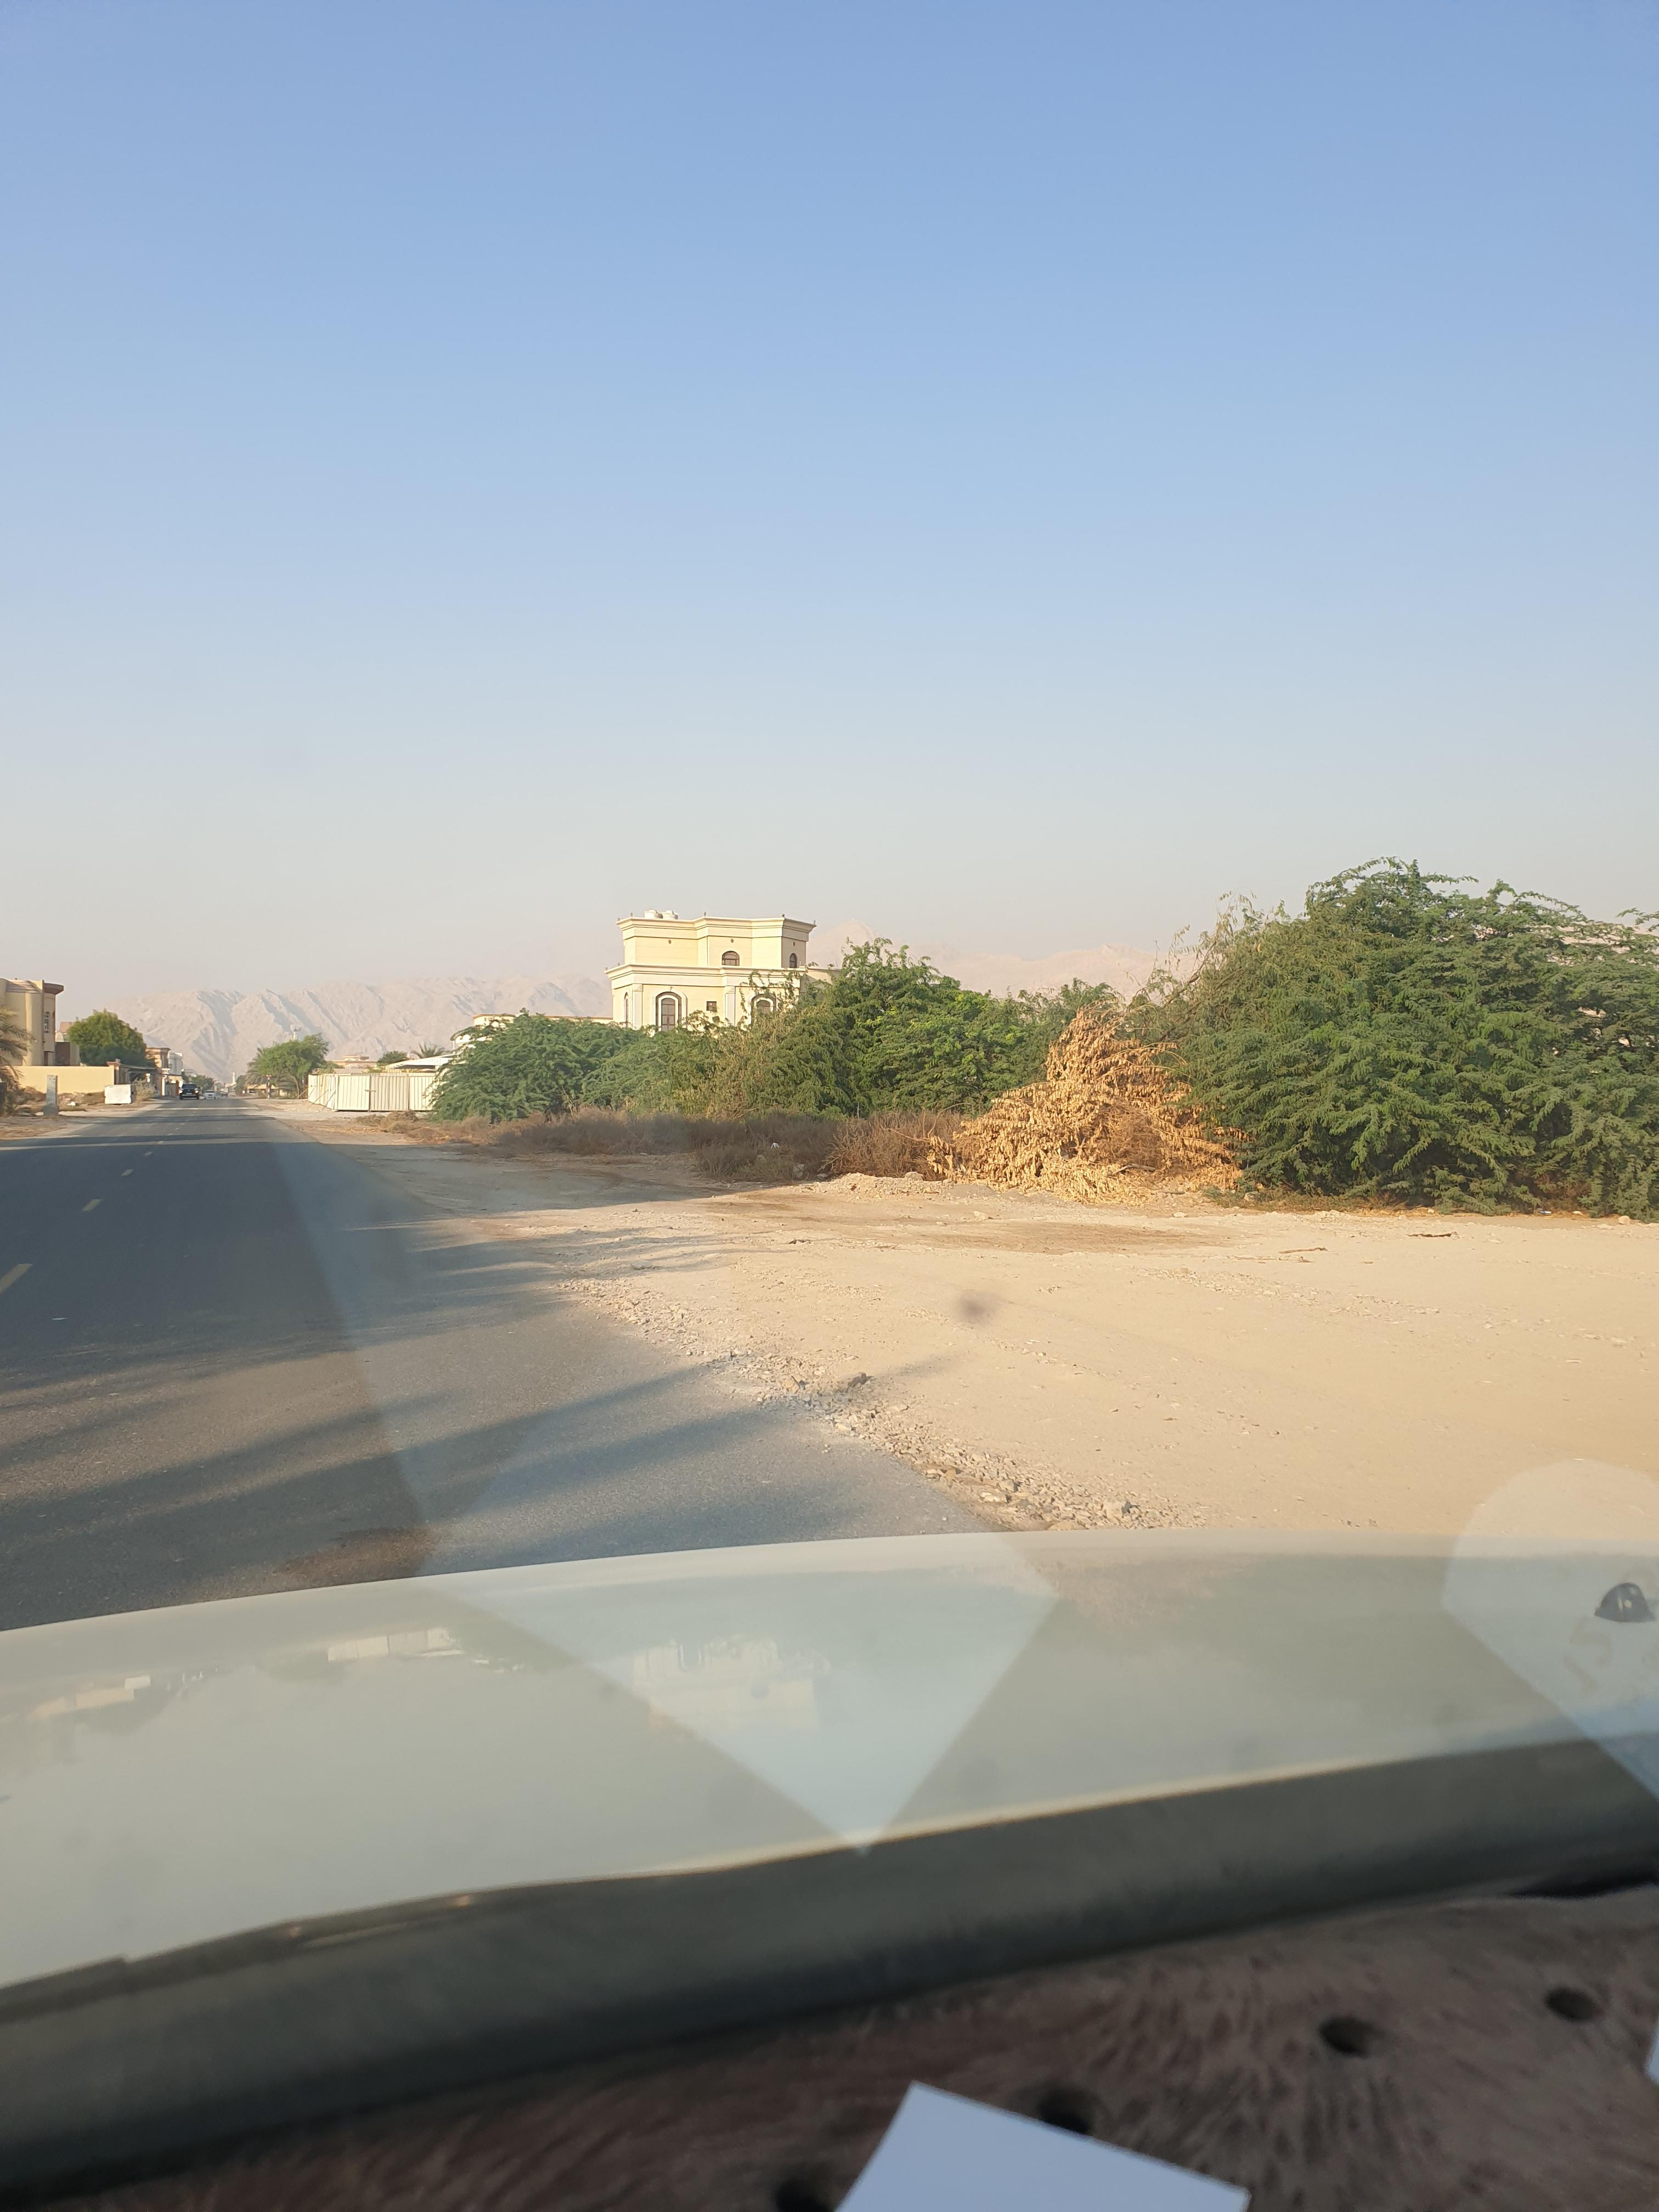fallen_trees: (964, 1151, 1178, 1223)
